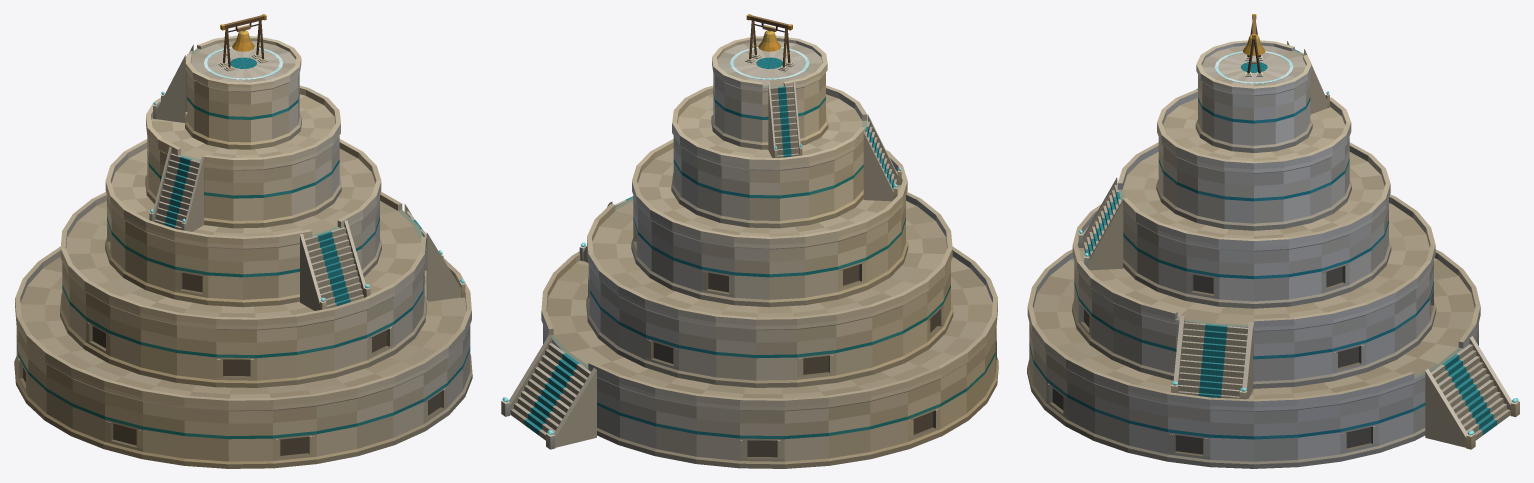
Rendered from sky_spire.glb.
The picture shows the model from 3 angles, left to right: view 1: azimuth 30°, elevation 25°; view 2: azimuth 150°, elevation 25°; view 3: azimuth 270°, elevation 25°; orthographic projection.
Visible parts, largest first — view 1: sky_spire; view 2: sky_spire; view 3: sky_spire.
Boxes of the visible parts, <box> form: sky_spire: <box>14,14,472,468</box>; sky_spire: <box>501,14,998,468</box>; sky_spire: <box>1027,14,1519,468</box>.
Bounding box in the file's own units: 40.4 × 34.18 × 43.84.
